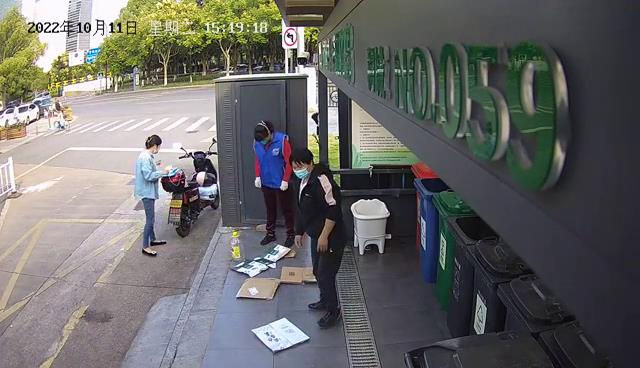person: (289, 147, 347, 329)
suliaozhipin: (228, 230, 243, 268)
worker: (251, 119, 295, 248), (132, 134, 172, 258)
zhizhipin: (249, 317, 311, 354), (229, 244, 291, 278), (235, 276, 281, 301), (280, 265, 317, 285)
